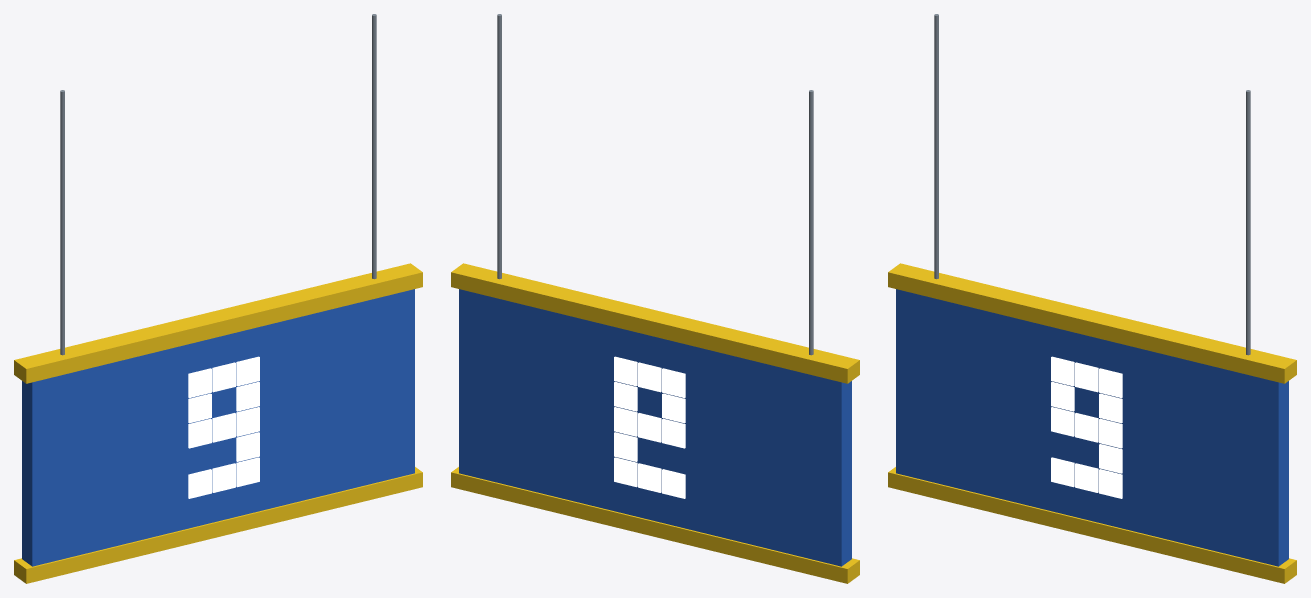
File: aisle-sign.glb
3 renders of one model, left to right at view 1: azimuth 30°, elevation 25°; view 2: azimuth 150°, elevation 25°; view 3: azimuth 330°, elevation 25°, orthographic.
Visible parts, largest first — view 1: aisle-sign; view 2: aisle-sign; view 3: aisle-sign.
Part boxes in pixels (bbox=[...]): aisle-sign: bbox=[14, 14, 422, 583]; aisle-sign: bbox=[451, 14, 859, 583]; aisle-sign: bbox=[888, 14, 1296, 583].
Size of the model in its own units: 5.6 by 6.45 by 0.3.
